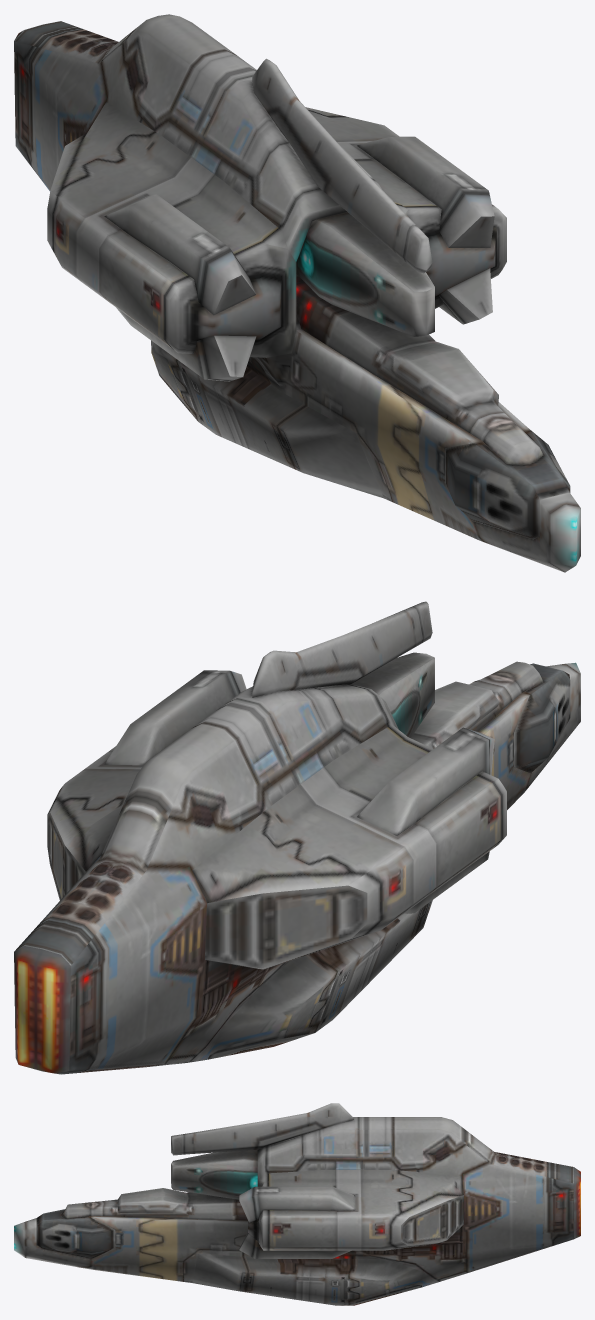
File: yao_sc_assa_01_t2.glb
3 renders of one model, top to bottom at view 1: azimuth 30°, elevation 25°; view 2: azimuth 150°, elevation 25°; view 3: azimuth 270°, elevation 25°, orthographic. The views are drawn at different scales.
Visible parts, largest first — view 1: yaot_assault_corvette_01_LOD0; view 2: yaot_assault_corvette_01_LOD0; view 3: yaot_assault_corvette_01_LOD0.
Part boxes in pixels (x1,y1,x2,y2): yaot_assault_corvette_01_LOD0: (14,14,580,572); yaot_assault_corvette_01_LOD0: (14,601,580,1074); yaot_assault_corvette_01_LOD0: (14,1103,580,1305).
Size of what is drawn, in the model's own units: 0.3031 by 0.33 by 0.8417.
1 material, 1 textured.
